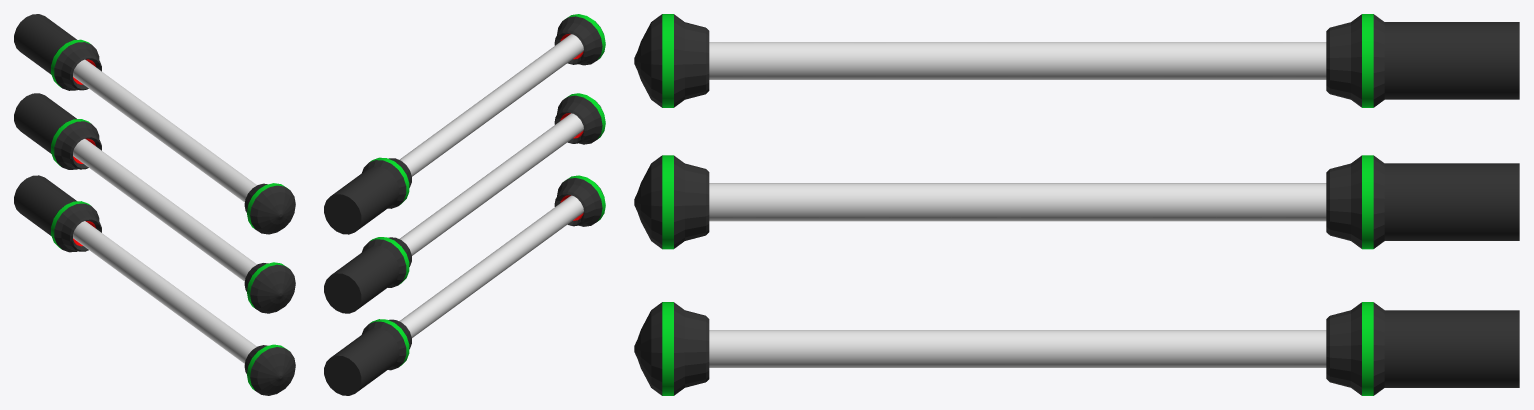
Rendered from armadilha laser3und.FBX.
3 renders of one model, left to right at view 1: azimuth 30°, elevation 25°; view 2: azimuth 150°, elevation 25°; view 3: azimuth 270°, elevation 25°, orthographic. The views are drawn at different scales.
Visible parts, largest first — view 1: Cylinder006, Cylinder004, Cylinder005, Cylinder003, Cylinder002, Cylinder001, Cylinder007, Cylinder009, Cylinder008; view 2: Cylinder004, Cylinder005, Cylinder006, Cylinder002, Cylinder001, Cylinder003, Cylinder007, Cylinder008, Cylinder009; view 3: Cylinder005, Cylinder004, Cylinder006, Cylinder002, Cylinder001, Cylinder003, Cylinder008, Cylinder007, Cylinder009.
Boxes of the visible parts, x1,y1,x2,y2 form: Cylinder006: (73,59,256,202); Cylinder004: (73,221,256,363); Cylinder005: (73,139,256,281); Cylinder003: (14,14,101,90); Cylinder002: (14,93,101,169); Cylinder001: (14,175,101,252); Cylinder007: (244,183,295,234); Cylinder009: (244,344,295,395); Cylinder008: (244,262,295,313); Cylinder004: (399,195,583,337); Cylinder005: (399,113,583,255); Cylinder006: (399,34,583,176); Cylinder002: (324,237,411,313); Cylinder001: (324,319,411,395); Cylinder003: (324,157,411,234); Cylinder007: (554,14,605,65); Cylinder008: (554,93,605,144); Cylinder009: (554,175,605,226); Cylinder005: (709,183,1326,221); Cylinder004: (709,330,1326,367); Cylinder006: (709,42,1326,79); Cylinder002: (1326,155,1519,249); Cylinder001: (1326,302,1519,395); Cylinder003: (1326,14,1519,107); Cylinder008: (634,155,709,249); Cylinder007: (634,14,709,107); Cylinder009: (634,302,709,395).
Bounding box in the file's own units: 23.7 × 104 × 223.
